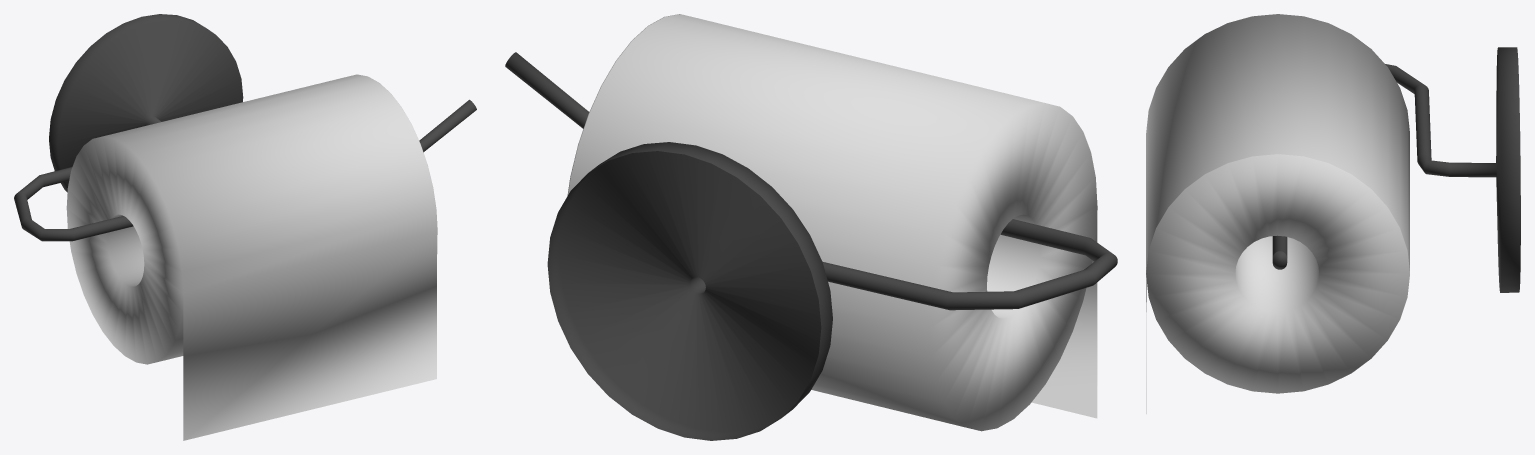
The model's file is ToiletPaper.gltf.
3 renders of one model, left to right at view 1: azimuth 30°, elevation 25°; view 2: azimuth 150°, elevation 25°; view 3: azimuth 270°, elevation 25°, orthographic. The views are drawn at different scales.
Visible parts, largest first — view 1: ToiletPaper; view 2: ToiletPaper; view 3: ToiletPaper.
Boxes of the visible parts, left/top/right/bottom form: ToiletPaper: left=14, top=14, right=476, bottom=440; ToiletPaper: left=505, top=14, right=1117, bottom=440; ToiletPaper: left=1146, top=14, right=1520, bottom=413.
Bounding box in the file's own units: 1.29 × 0.7838 × 0.859.
2 materials, 1 textured.
